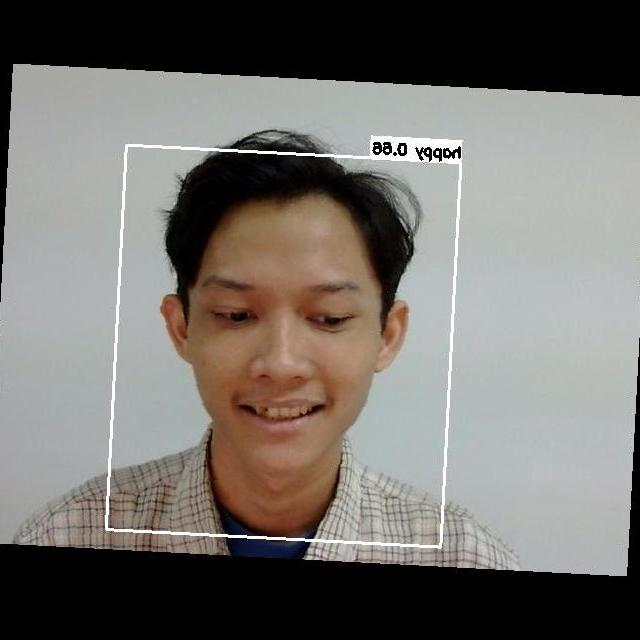Happy: (185, 255, 379, 448)
